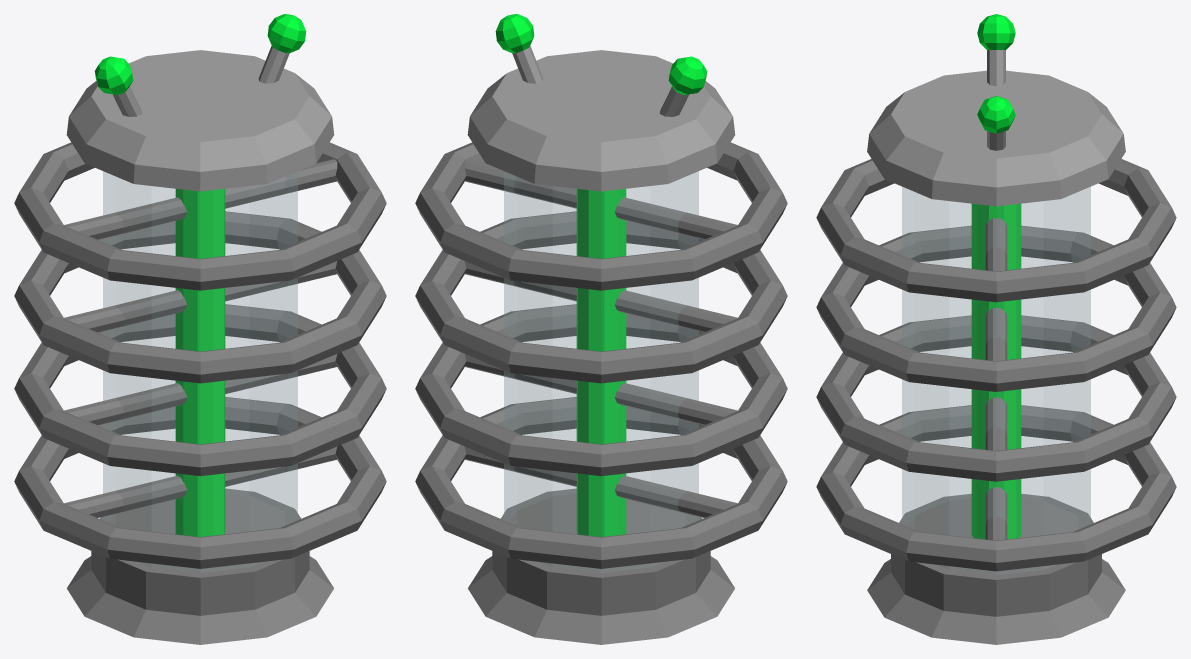
Rendered from Gerador.fbx.
3 views of the same model, side by side, from view 1: azimuth 30°, elevation 25°; view 2: azimuth 150°, elevation 25°; view 3: azimuth 270°, elevation 25° (orthographic). The views are drawn at different scales.
Visible parts, largest first — view 1: Gerador; view 2: Gerador; view 3: Gerador.
Boxes of the visible parts, bbox=[...] form: Gerador: bbox=[14, 14, 386, 644]; Gerador: bbox=[415, 14, 787, 644]; Gerador: bbox=[816, 14, 1176, 644].
Size of the model in its own units: 99.29 by 162 by 99.29.
